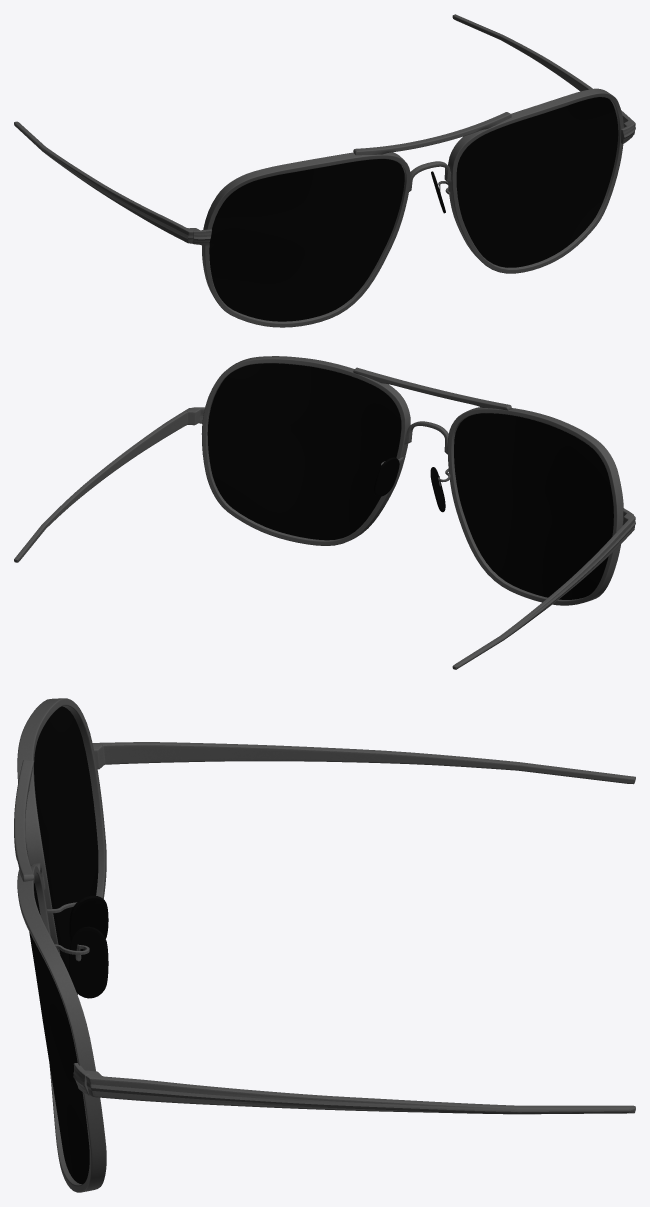
File: Chromance0209.glb
3 views of the same model, one above another, from view 1: azimuth 30°, elevation 25°; view 2: azimuth 150°, elevation 25°; view 3: azimuth 270°, elevation 25° (orthographic). The views are drawn at different scales.
Visible parts, largest first — view 1: Lentes, armacao; view 2: Lentes, armacao, Pontes; view 3: armacao, Lentes, Pontes.
Part boxes in pixels (<box>): Lentes: <box>209,97,618,321</box>; armacao: <box>14,14,635,327</box>; Lentes: <box>207,363,613,599</box>; armacao: <box>14,356,635,669</box>; Pontes: <box>373,457,445,512</box>; armacao: <box>14,698,635,1192</box>; Lentes: <box>29,706,98,1184</box>; Pontes: <box>69,895,108,998</box>.
Size of the model in its own units: 0.1573 by 0.0556 by 0.1173.
Materials: 3 (1 with a texture image).
